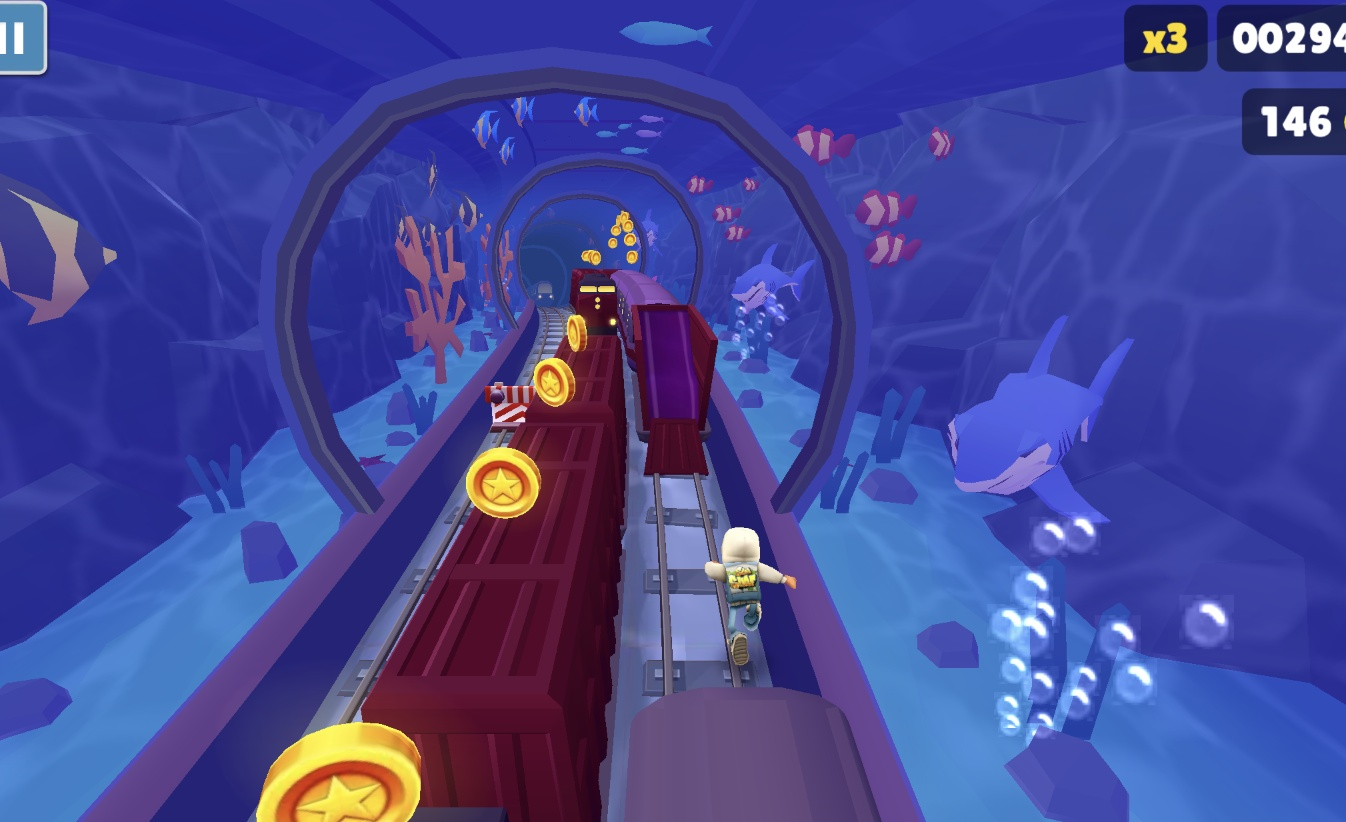ground_barrier: (486, 384, 537, 432)
train: (360, 335, 630, 822), (624, 687, 888, 822), (628, 302, 722, 475), (609, 271, 662, 376), (571, 270, 623, 339), (535, 276, 557, 305)
